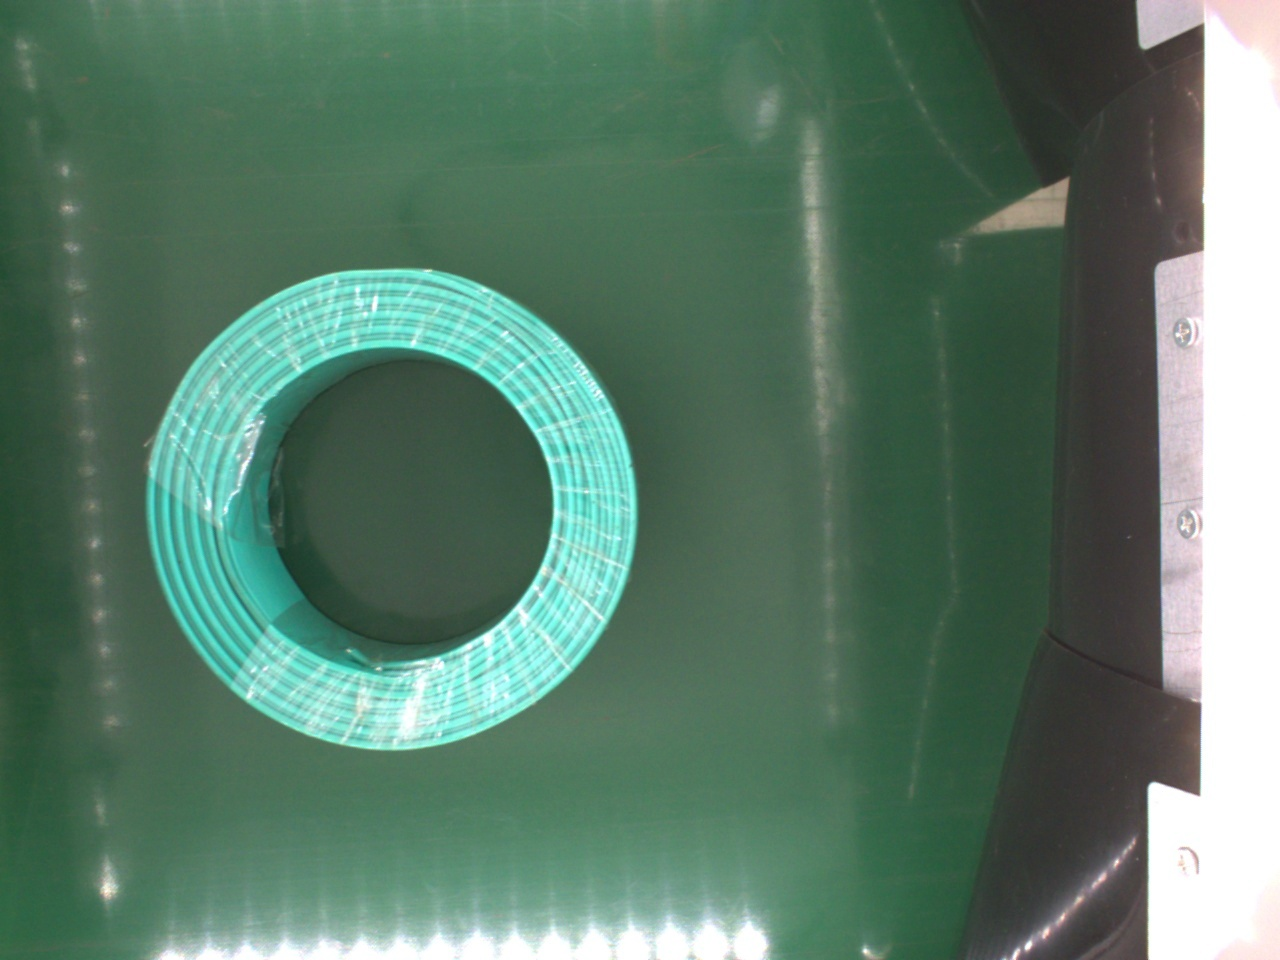green: (143, 267, 641, 758)
